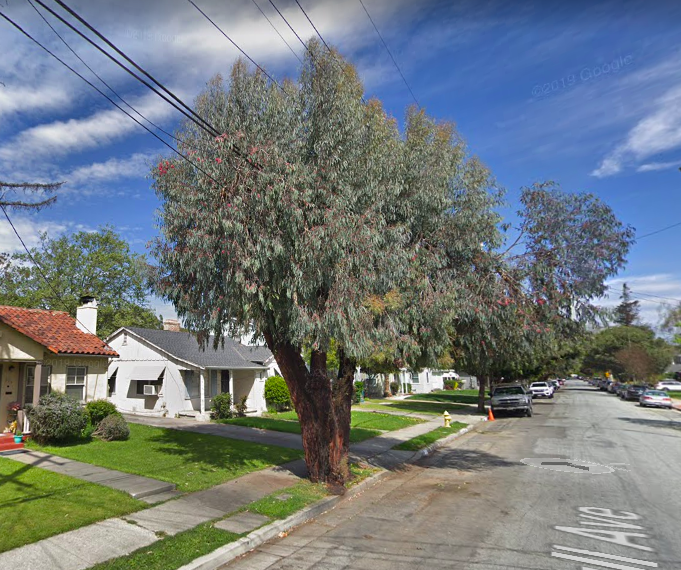tree: (143, 34, 513, 485)
